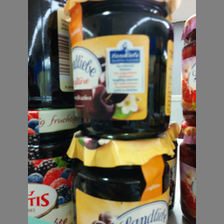jam: (65, 1, 176, 140), (70, 132, 175, 224)
